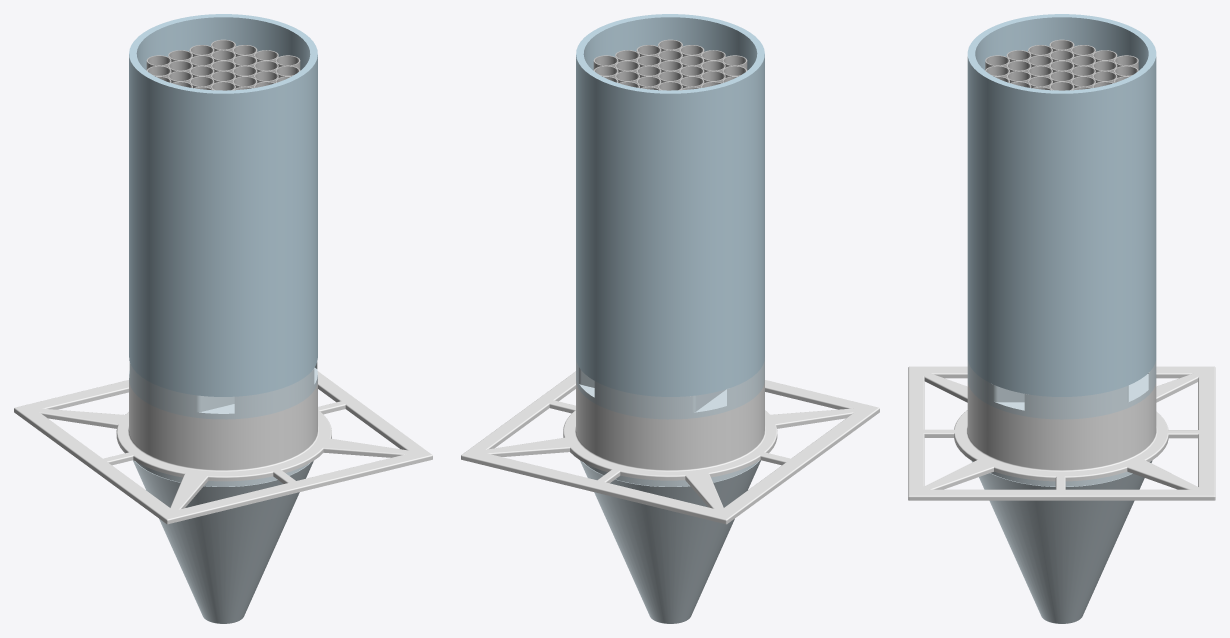
The model's file is assembly2.gltf.
3 renders of one model, left to right at view 1: azimuth 30°, elevation 25°; view 2: azimuth 150°, elevation 25°; view 3: azimuth 270°, elevation 25°, orthographic.
Visible parts, largest first — view 1: container, inner_chamber, nozzle attachment, nozzle, straws, Part 1; view 2: container, inner_chamber, nozzle attachment, nozzle, straws, Part 1; view 3: container, inner_chamber, nozzle attachment, nozzle, straws, Part 1.
Boxes of the visible parts, left/top/right/bottom form: container: left=129, top=14, right=317, bottom=228; inner_chamber: left=129, top=189, right=317, bottom=396; nozzle attachment: left=14, top=371, right=432, bottom=524; nozzle: left=133, top=460, right=313, bottom=623; straws: left=146, top=39, right=300, bottom=90; Part 1: left=129, top=362, right=317, bottom=419; container: left=576, top=14, right=764, bottom=228; inner_chamber: left=576, top=189, right=764, bottom=396; nozzle attachment: left=461, top=371, right=879, bottom=524; nozzle: left=580, top=460, right=760, bottom=623; straws: left=593, top=39, right=747, bottom=90; Part 1: left=576, top=358, right=764, bottom=419; container: left=967, top=14, right=1156, bottom=228; inner_chamber: left=967, top=191, right=1156, bottom=396; nozzle attachment: left=908, top=366, right=1215, bottom=500; nozzle: left=971, top=460, right=1152, bottom=623; straws: left=985, top=39, right=1138, bottom=90; Part 1: left=967, top=360, right=1156, bottom=419.
Size of the model in its own units: 0.124 by 0.25 by 0.124.
